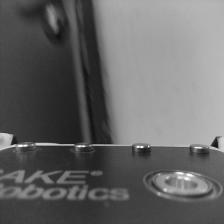Lock: (43, 8, 67, 40)
